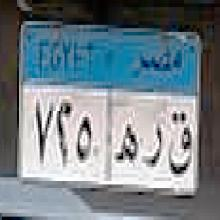2: (54, 97, 74, 165)
5: (76, 118, 94, 162)
7: (30, 103, 53, 164)
haa: (114, 123, 138, 163)
qaaf: (165, 107, 194, 179)
raa: (141, 126, 164, 171)
